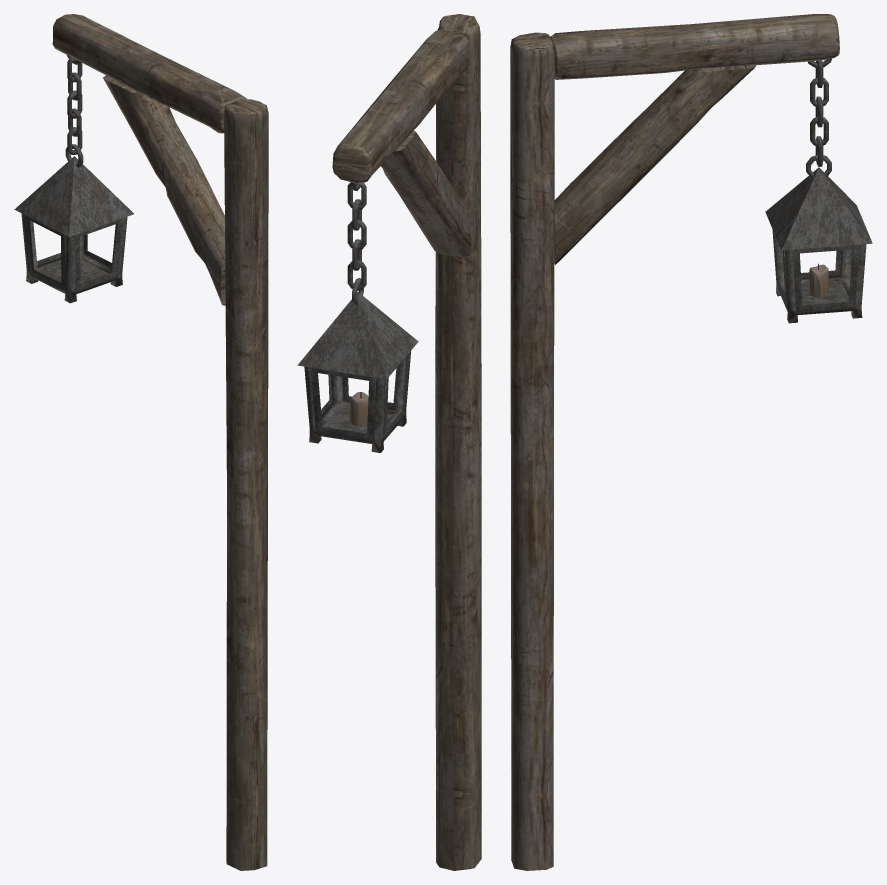
Rendered from Street_Lamp.glb.
The picture shows the model from 3 angles, left to right: view 1: azimuth 30°, elevation 25°; view 2: azimuth 150°, elevation 25°; view 3: azimuth 270°, elevation 25°; orthographic projection. The views are drawn at different scales.
Visible parts, largest first — view 1: SM_Street_Lamp; view 2: SM_Street_Lamp; view 3: SM_Street_Lamp.
Boxes of the visible parts, <box> form: SM_Street_Lamp: <box>14,14,268,870</box>; SM_Street_Lamp: <box>297,14,481,870</box>; SM_Street_Lamp: <box>510,14,872,870</box>.
Size of the model in its own units: 0.4278 by 3.06 by 1.22.
Materials: 3 (3 with a texture image).
